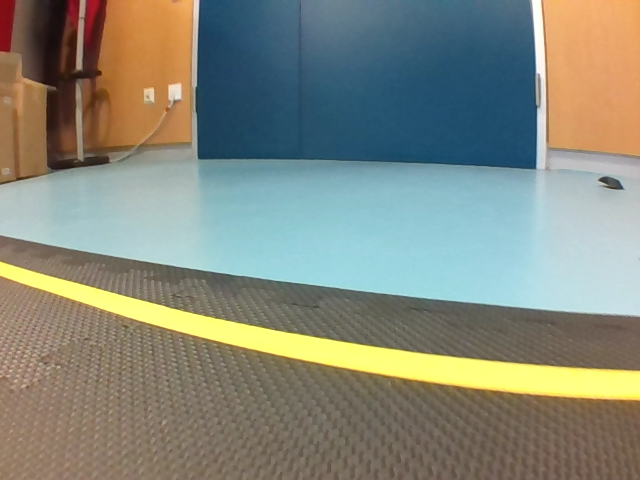30: (410, 84, 449, 124)
no30: (108, 108, 120, 132)
